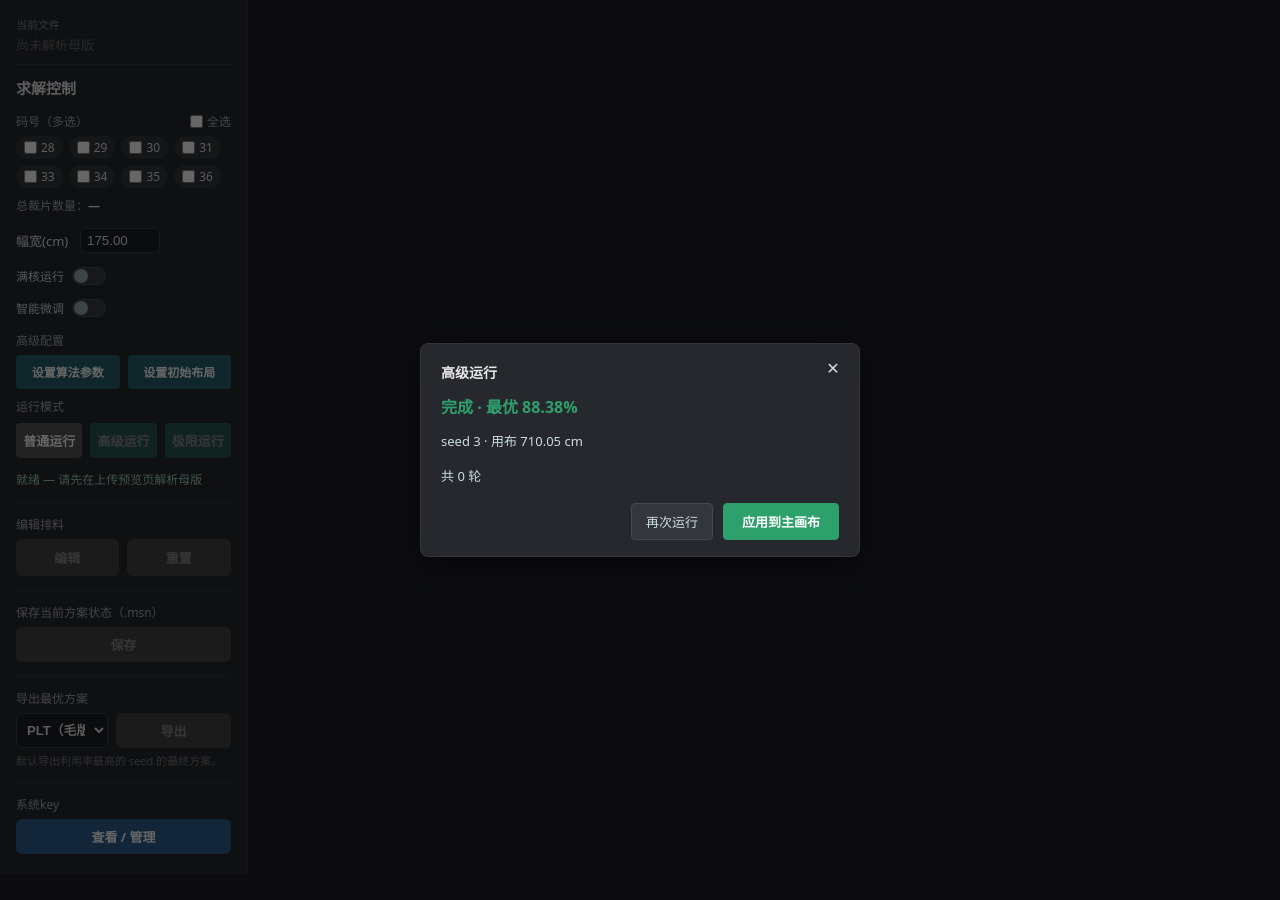
it: NestingPage.applyStrategyResult (US-006) › apply → phase==='done'：状态行「策略 run 已应用」+ #restart 按钮 + seekbar 解禁
Step 1. Click the button with test id "strategy-apply-btn" → click(781, 521), box [723, 503, 839, 540]
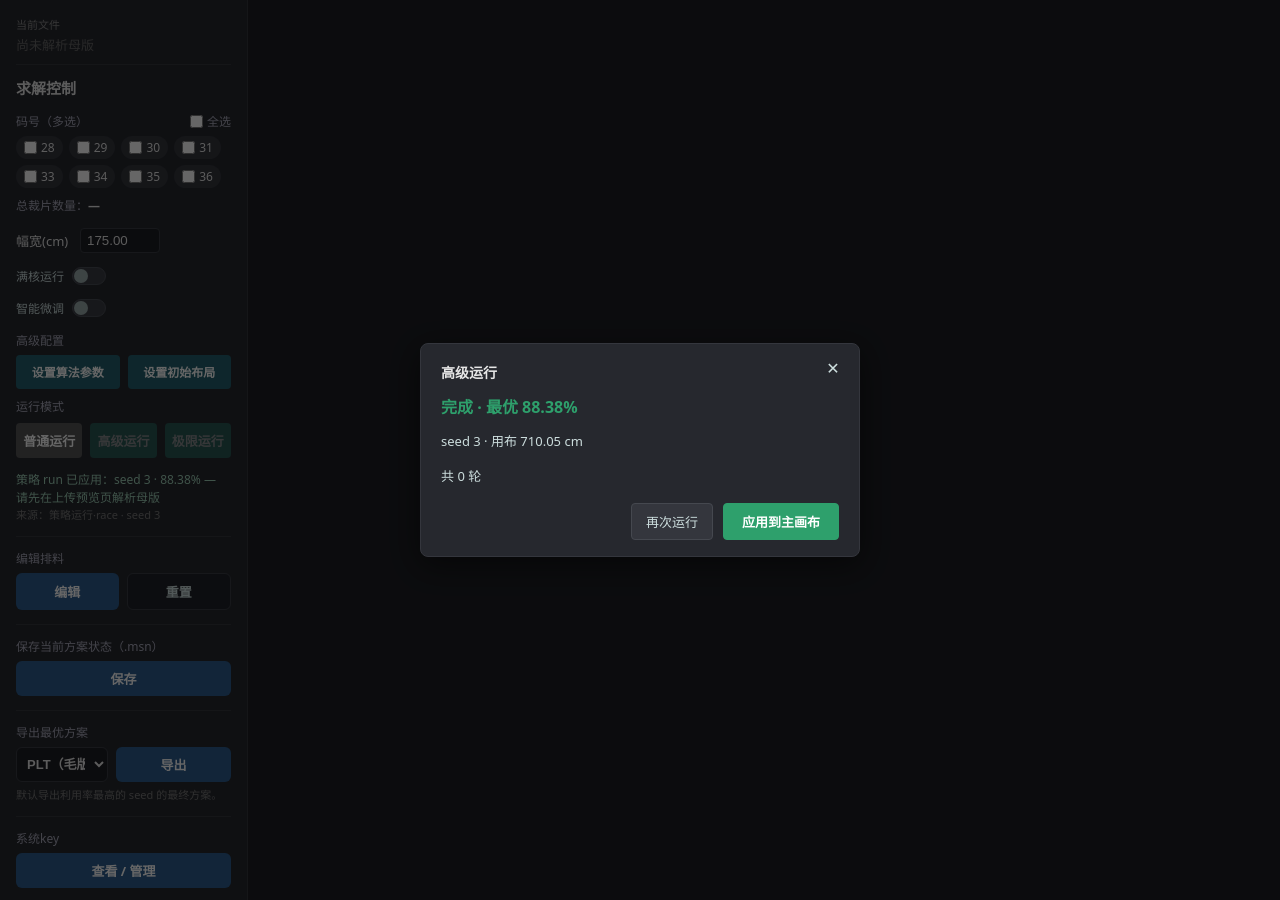
Expected: the button with id "restart" is shown, [16, 423, 82, 458]
Now the text with id "status" shows "策略 run 已应用：seed 3 · 88.38%", box [16, 471, 216, 506]
